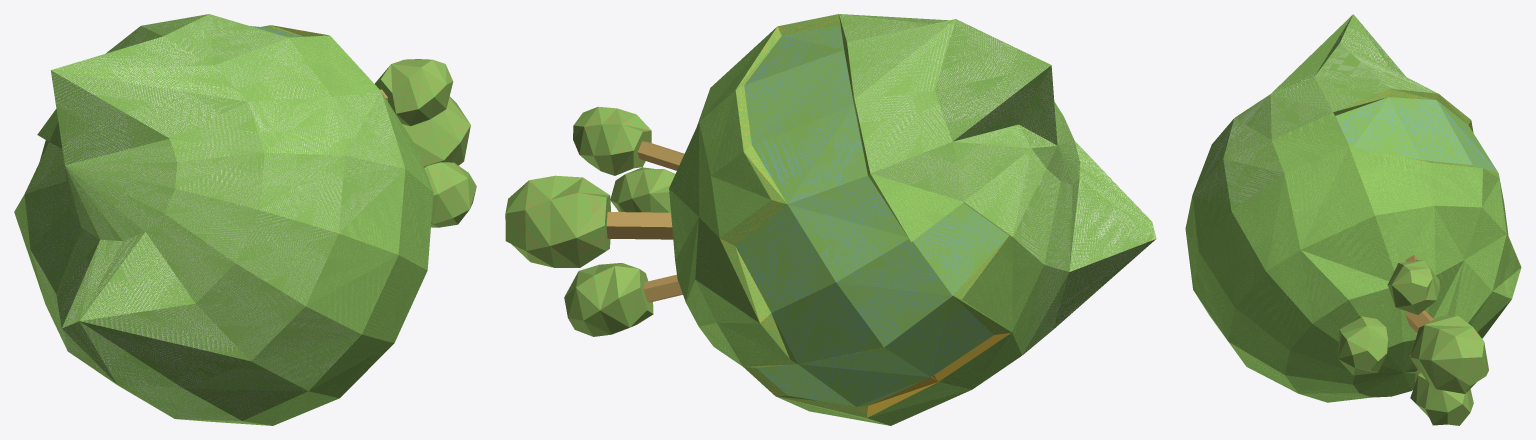
Rendered from earth_poly_center.dae.
The picture shows the model from 3 angles, left to right: view 1: azimuth 30°, elevation 25°; view 2: azimuth 150°, elevation 25°; view 3: azimuth 270°, elevation 25°; orthographic projection. The views are drawn at different scales.
Visible parts, largest first — view 1: group_0_005, group_0_006, group_0, group_0_010, group_0_023, group_0_016, group_0_021; view 2: group_0_005, group_0_014, group_0_006, group_0_018, group_0_010, group_0_016, group_0, group_0_007, group_0_004, group_0_026, group_0_012, group_0_001 (+8 smaller); view 3: group_0_006, group_0_005, group_0_014, group_0_016, group_0_010, group_0_021, group_0_023, group_0_026, group_0_011, group_0_007, group_0_020.
Part boxes in pixels (x1,y1,x2,y2): group_0_005: [24, 14, 405, 420]; group_0_006: [14, 35, 433, 425]; group_0: [56, 232, 250, 388]; group_0_010: [50, 36, 247, 165]; group_0_023: [375, 59, 453, 126]; group_0_016: [402, 96, 470, 165]; group_0_021: [424, 162, 476, 227]; group_0_005: [839, 14, 1079, 354]; group_0_014: [735, 24, 908, 312]; group_0_006: [669, 27, 1043, 425]; group_0_018: [771, 239, 952, 363]; group_0_010: [934, 19, 1057, 148]; group_0_016: [505, 175, 610, 267]; group_0: [1053, 141, 1156, 329]; group_0_007: [720, 14, 867, 417]; group_0_004: [756, 347, 930, 406]; group_0_026: [564, 263, 653, 336]; group_0_012: [913, 203, 1008, 295]; group_0_001: [884, 295, 993, 376]; group_0_006: [1185, 112, 1521, 402]; group_0_005: [1192, 43, 1437, 210]; group_0_014: [1335, 97, 1508, 235]; group_0_016: [1410, 315, 1488, 393]; group_0_010: [1271, 14, 1405, 93]; group_0_021: [1337, 316, 1388, 375]; group_0_023: [1387, 260, 1439, 314]; group_0_026: [1410, 369, 1473, 425]; group_0_011: [1389, 88, 1473, 132]; group_0_007: [1333, 89, 1518, 260]; group_0_020: [1405, 310, 1433, 333].
Size of the model in its own units: 22.26 by 15.48 by 16.1.
